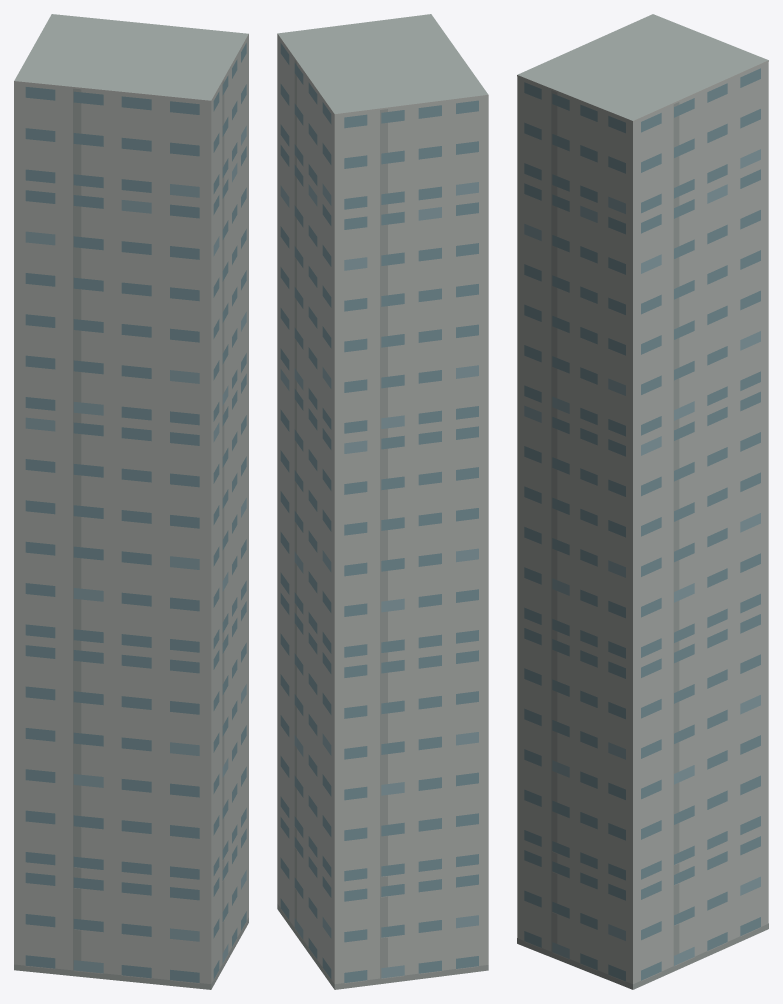
Rendered from residential-9db970ff-64f3-4709-aec8-5aaf092e2fe0.glb.
3 renders of one model, left to right at view 1: azimuth 30°, elevation 25°; view 2: azimuth 150°, elevation 25°; view 3: azimuth 270°, elevation 25°, orthographic. The views are drawn at different scales.
Visible parts, largest first — view 1: residential-9db970ff-64f3-4709-aec8-5aaf092e2fe0.tmp; view 2: residential-9db970ff-64f3-4709-aec8-5aaf092e2fe0.tmp; view 3: residential-9db970ff-64f3-4709-aec8-5aaf092e2fe0.tmp.
Part boxes in pixels (x1,y1,x2,y2): residential-9db970ff-64f3-4709-aec8-5aaf092e2fe0.tmp: (14,14,248,989); residential-9db970ff-64f3-4709-aec8-5aaf092e2fe0.tmp: (277,14,488,989); residential-9db970ff-64f3-4709-aec8-5aaf092e2fe0.tmp: (517,14,768,989).
Bounding box in the file's own units: 36.48 × 138 × 36.23.
